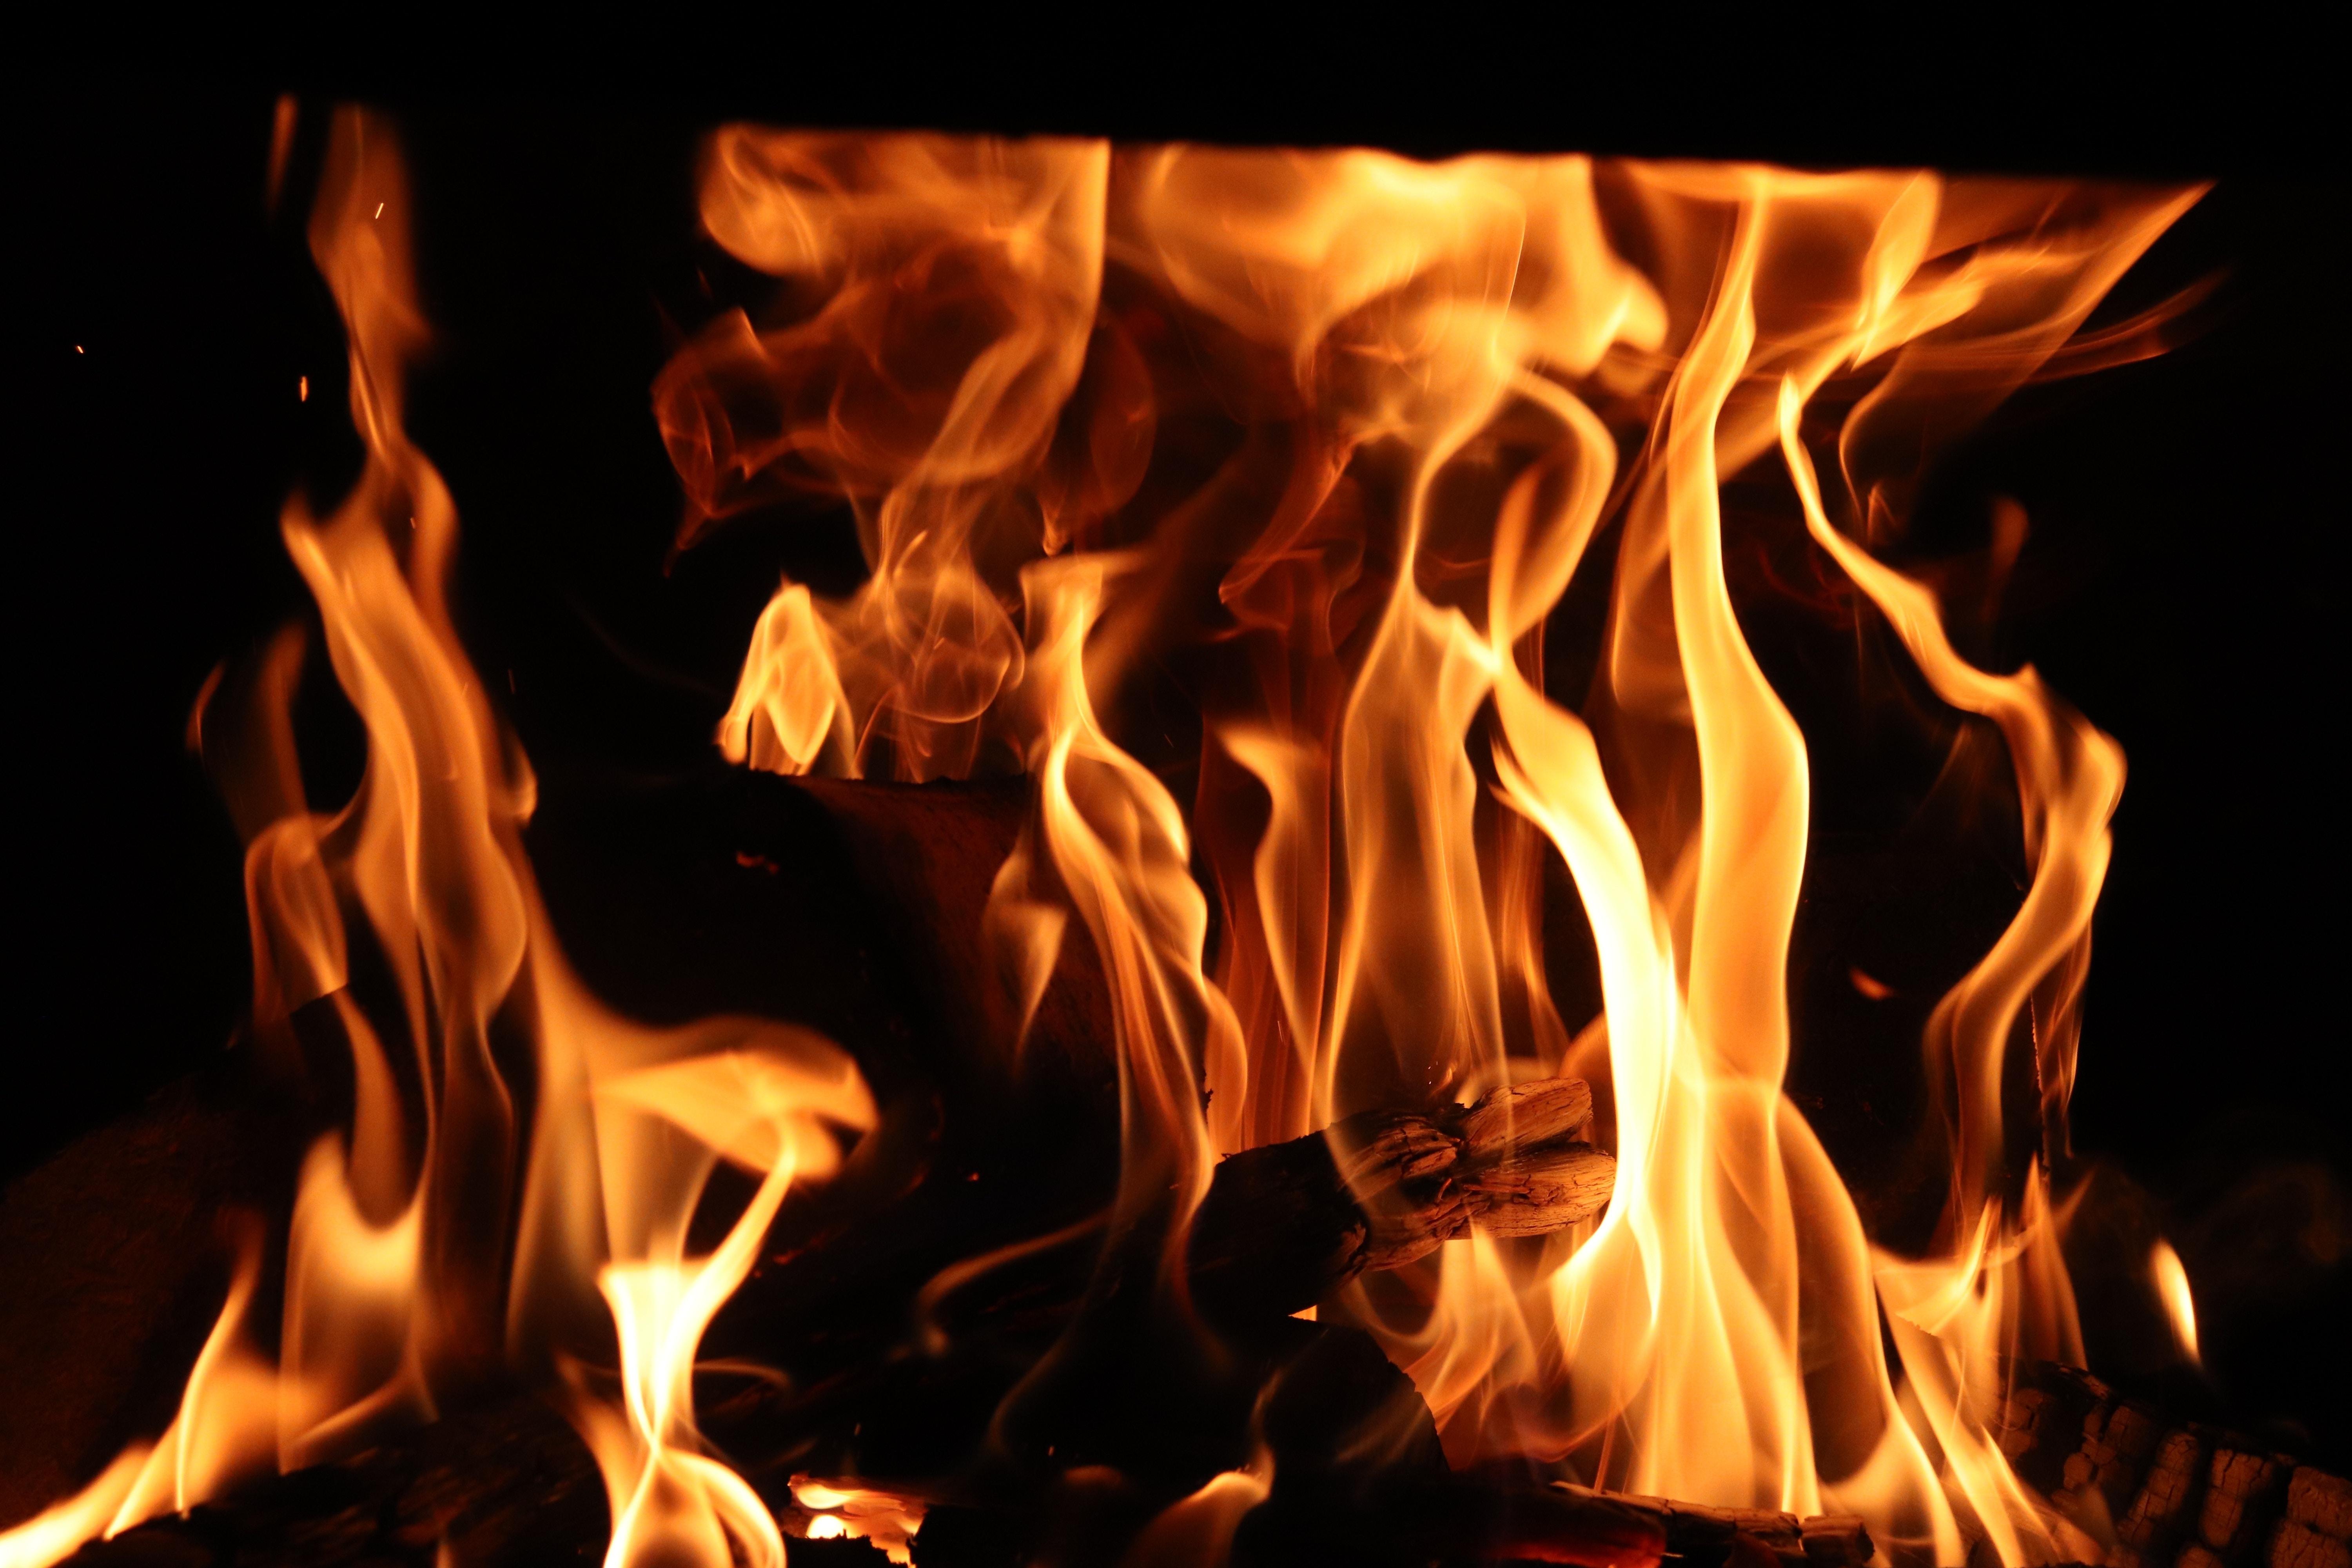fire: (656, 171, 2207, 1494)
